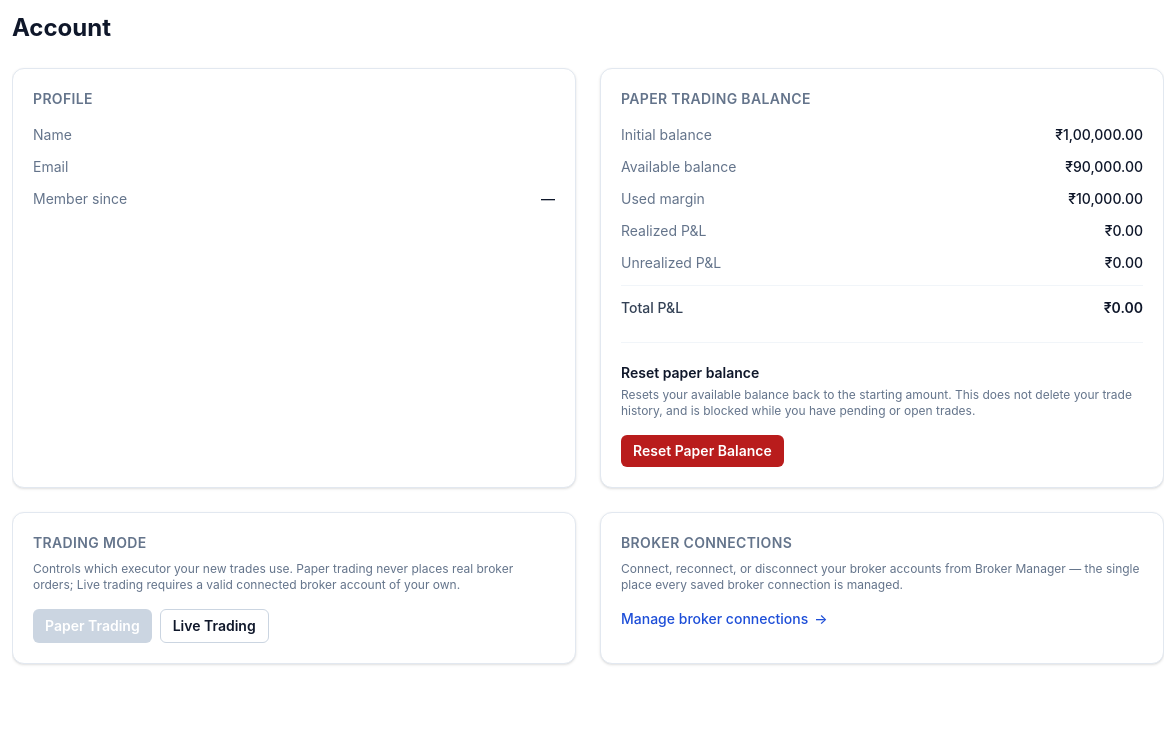
Test: Account page › Trading Mode selector › blocks switching to Live with no connected broker, without opening the confirm dialog
Click the button "Live Trading": (214, 626) [160,609,269,643]
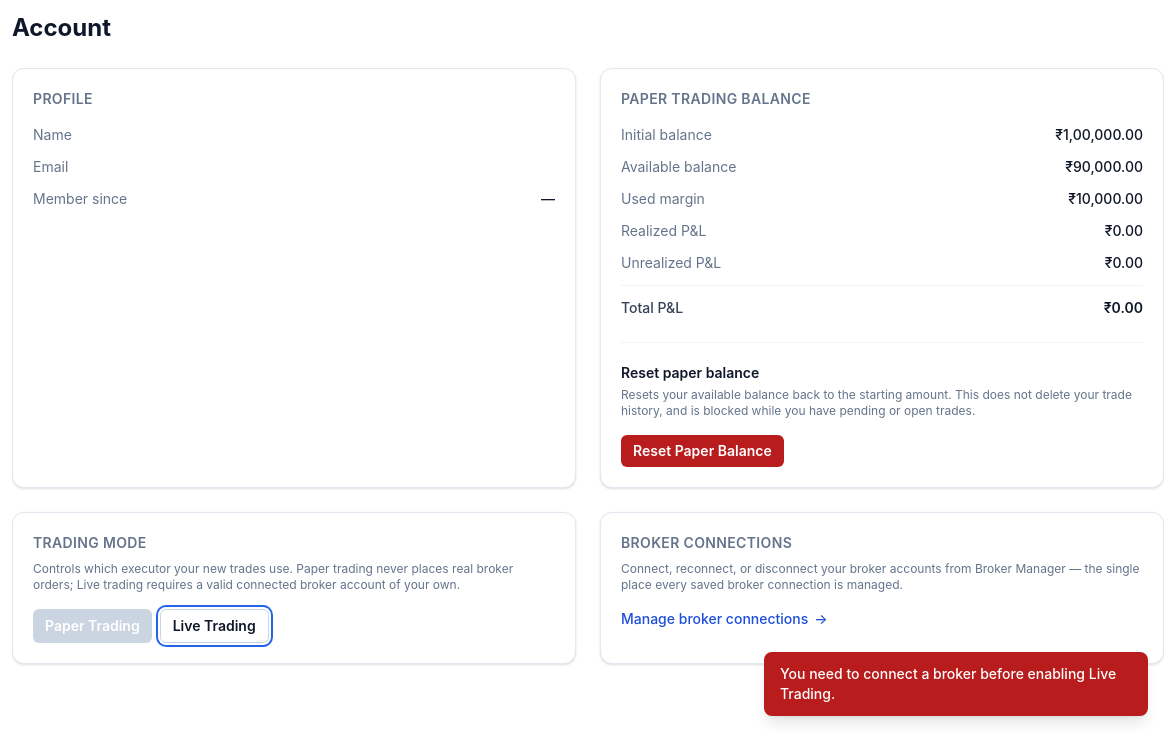
Check: the text "You need to connect a broker before enabling Live Trading." is shown, box [764,652,1148,716]
